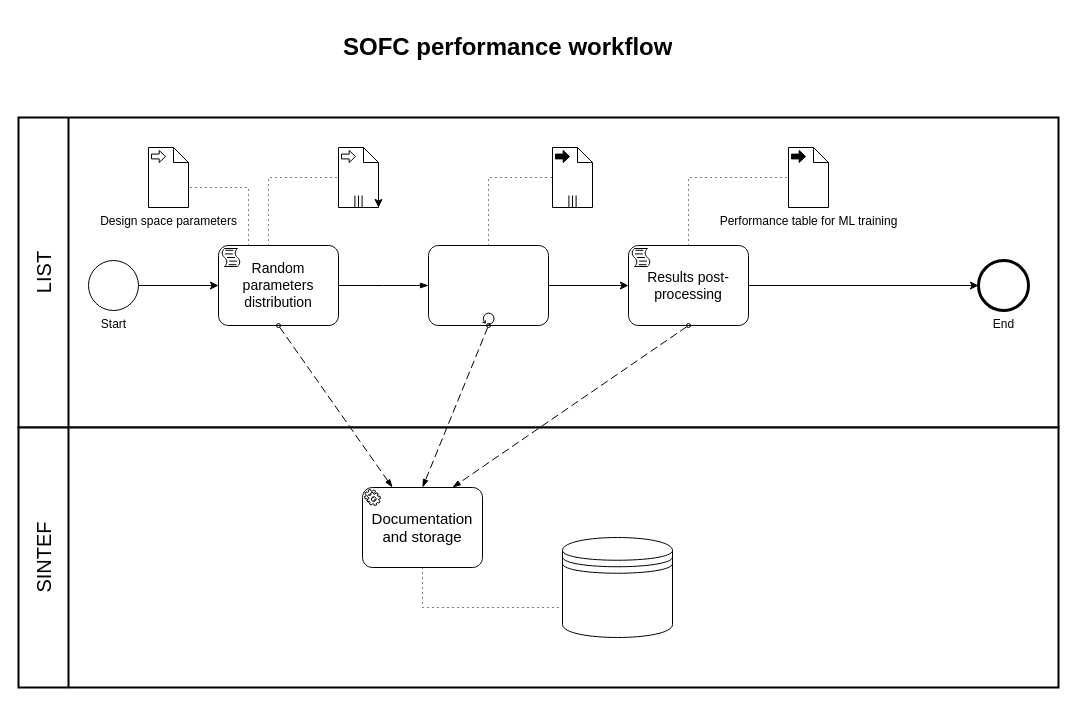
Some shapes in this 1076 by 705 pixel diagram are drawn without their labels. Here are the shapes that lost their labels. From the top down, the centre of each, then its label:
point 358,177: List of simulation parameters
point 572,177: List of simulation results
point 488,285: COMSOL simulations
point 617,587: Dataspace
